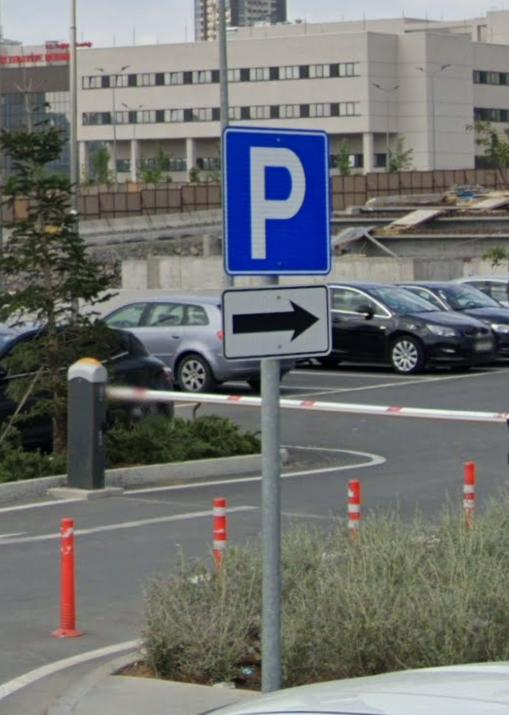park: (229, 135, 335, 275)
